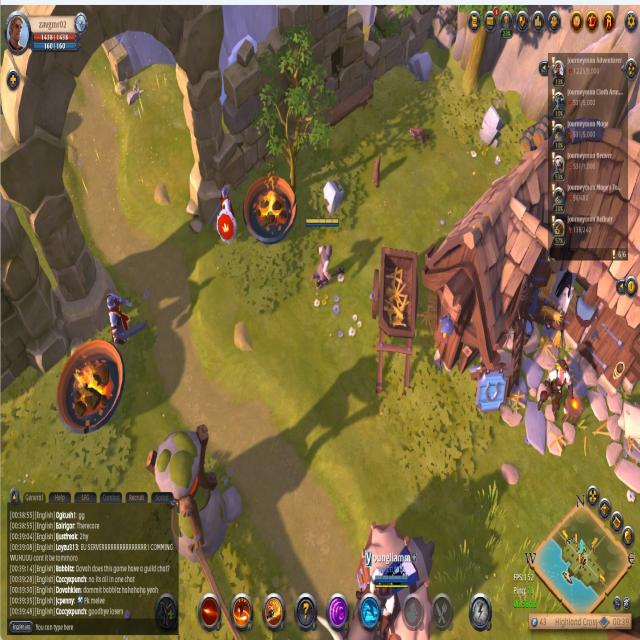stone: (318, 175, 348, 218), (476, 103, 504, 149), (404, 49, 436, 84)
